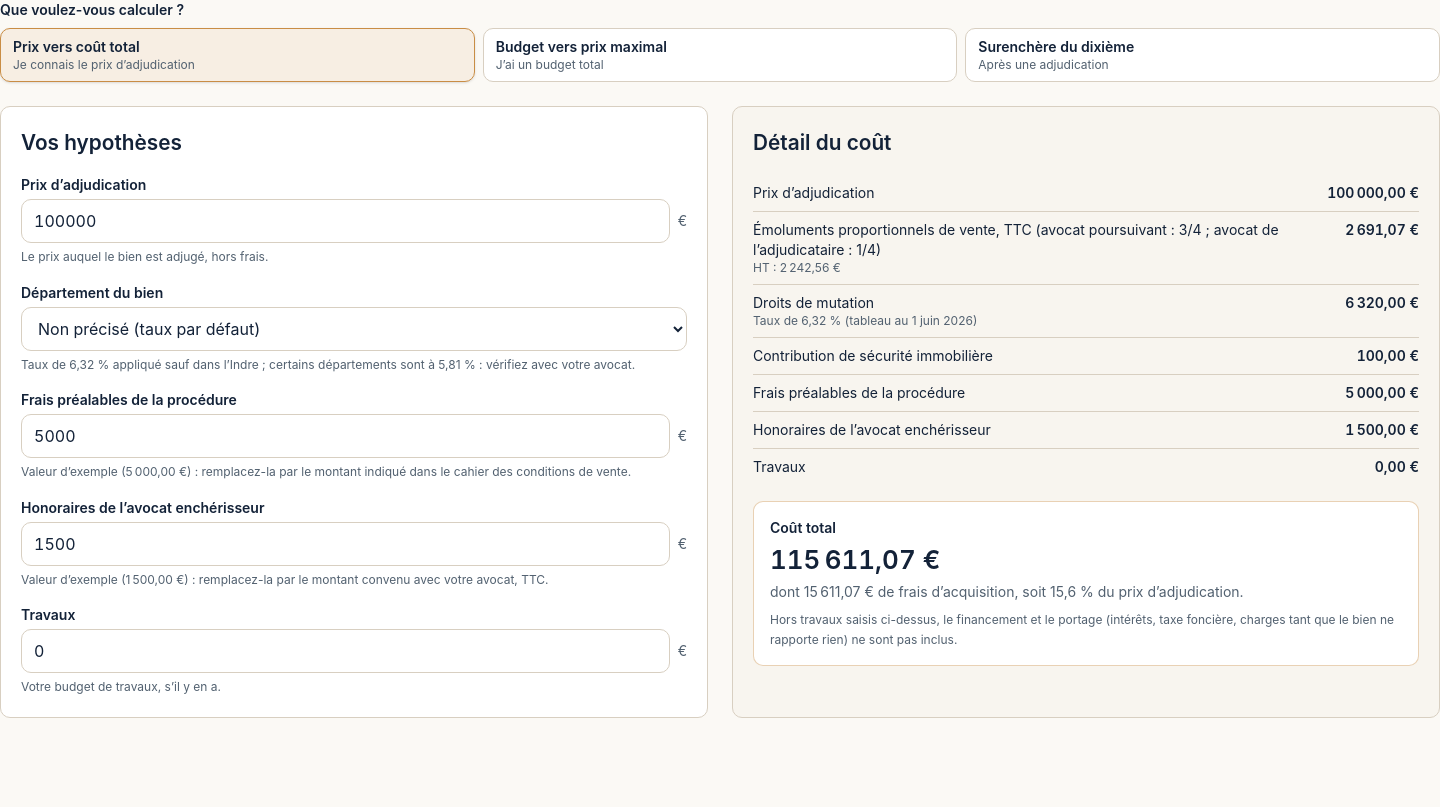
Test case: sélecteur de mode › n'affiche que le calcul choisi, avec une seule zone annoncée par les lecteurs d'écran
This screenshot has width=1440, height=807.
Expected: the element "Détail du coût" is shown, [732,106,1439,718]
Click the radio button labelled "Budget vers prix maximal J’ai un budget total" at [581, 46], box [483,28,957,82]
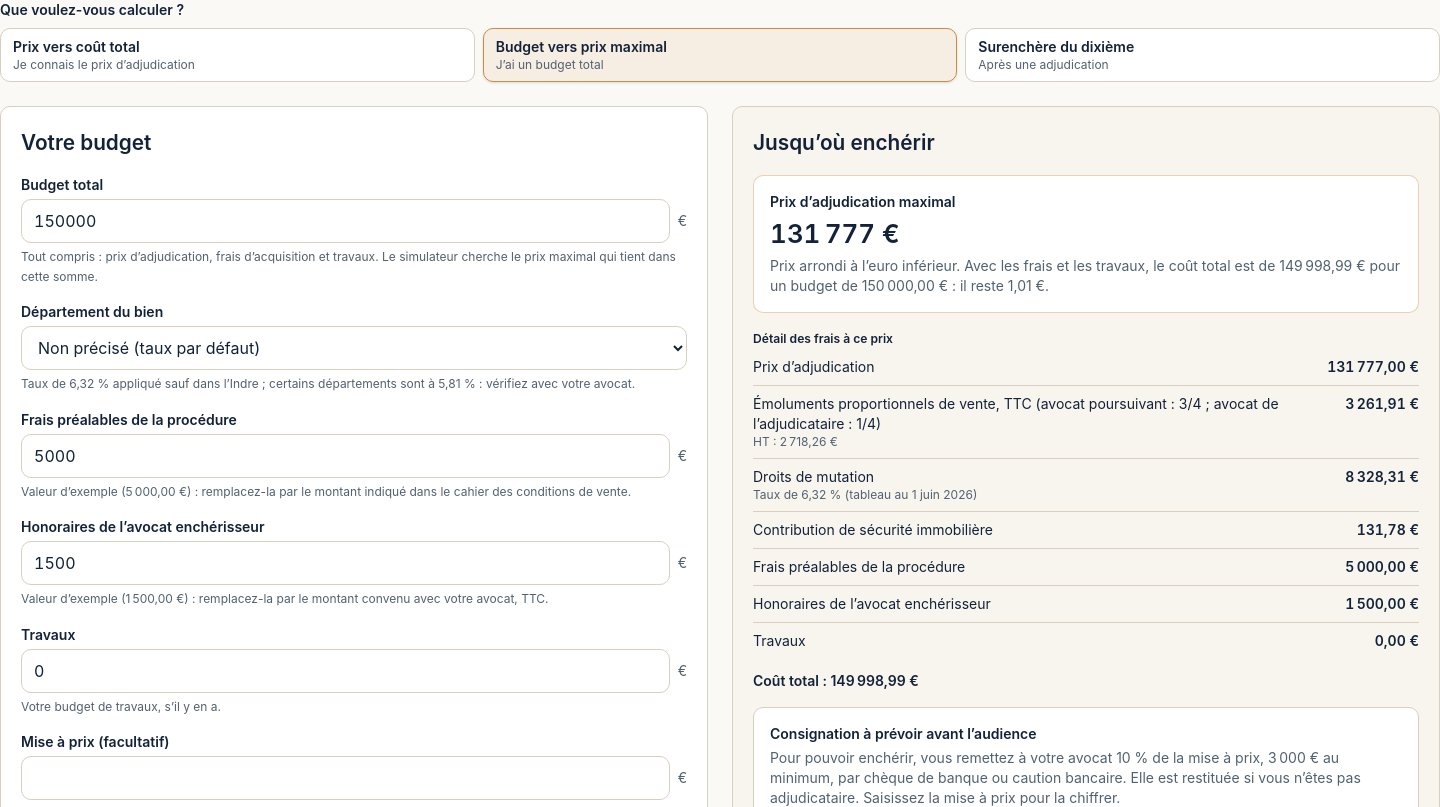
Result: the heading "Détail du coût" is gone
Click the radio button labelled "Surenchère du dixième Après une adjudication" at [1056, 46], box [965,28,1439,82]
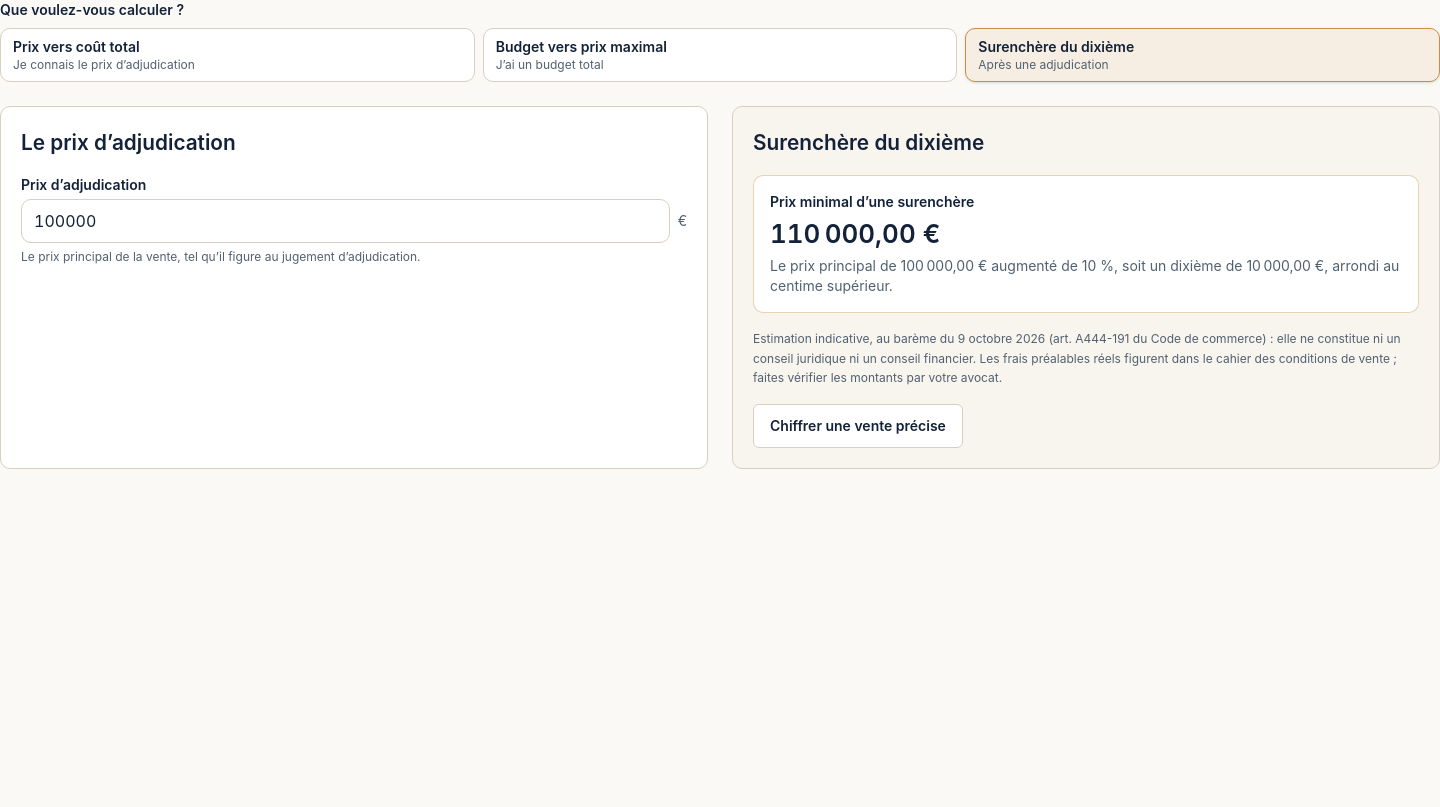
Result: the heading "Jusqu’où enchérir" is gone
Result: the element "Surenchère du dixième" is shown at [732,106,1439,468]
